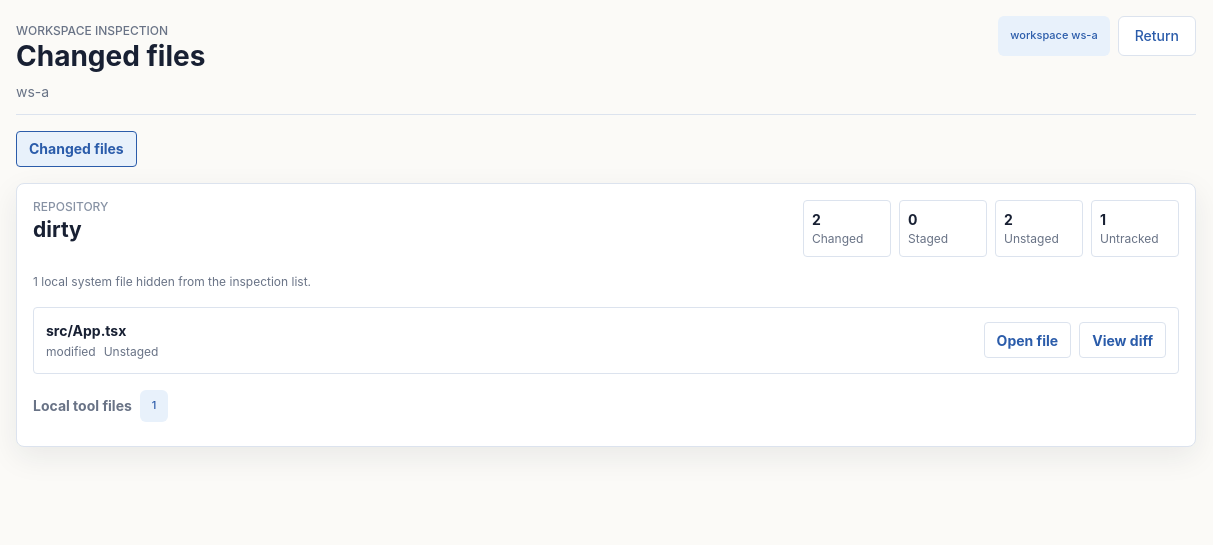
Test: WorkspaceInspectionRoute › folds local tool files and reports suppressed system noise
Expected: the heading "dirty" is shown, [33,217,82,242]
Expected: the text "src/App.tsx" is shown, [46,322,126,339]
Click the text "Local tool files" at (82, 406), box [33,395,132,416]
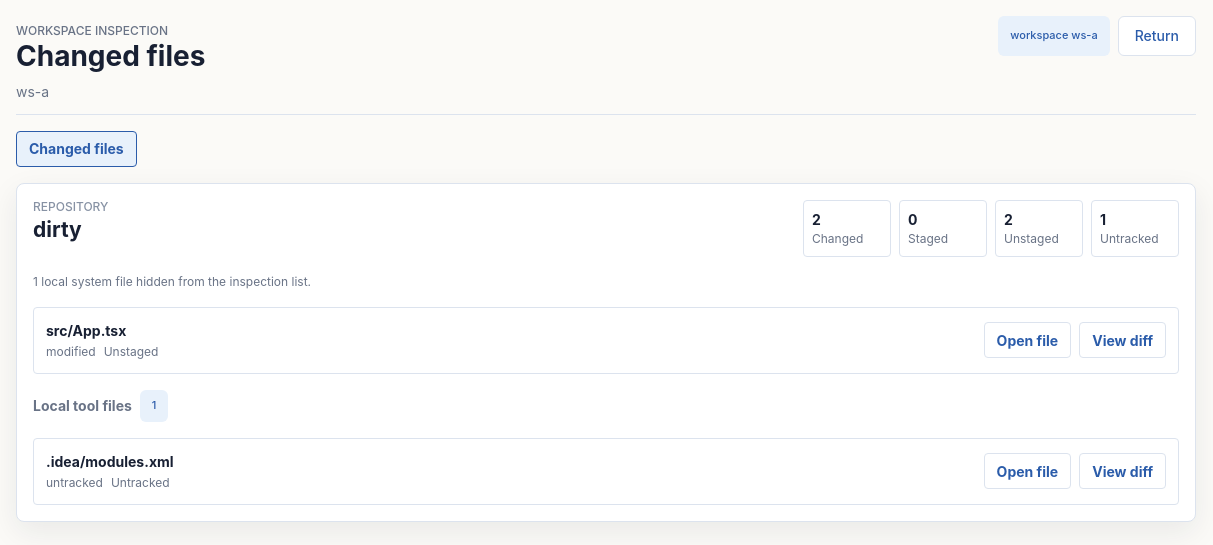
Now the text ".idea/modules.xml" is shown, box [46,453,174,470]
